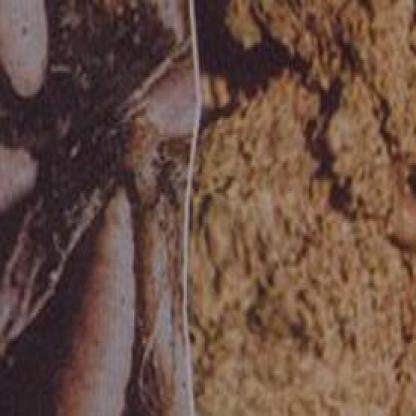whorl-maggot: (54, 189, 138, 416), (0, 0, 50, 94)
